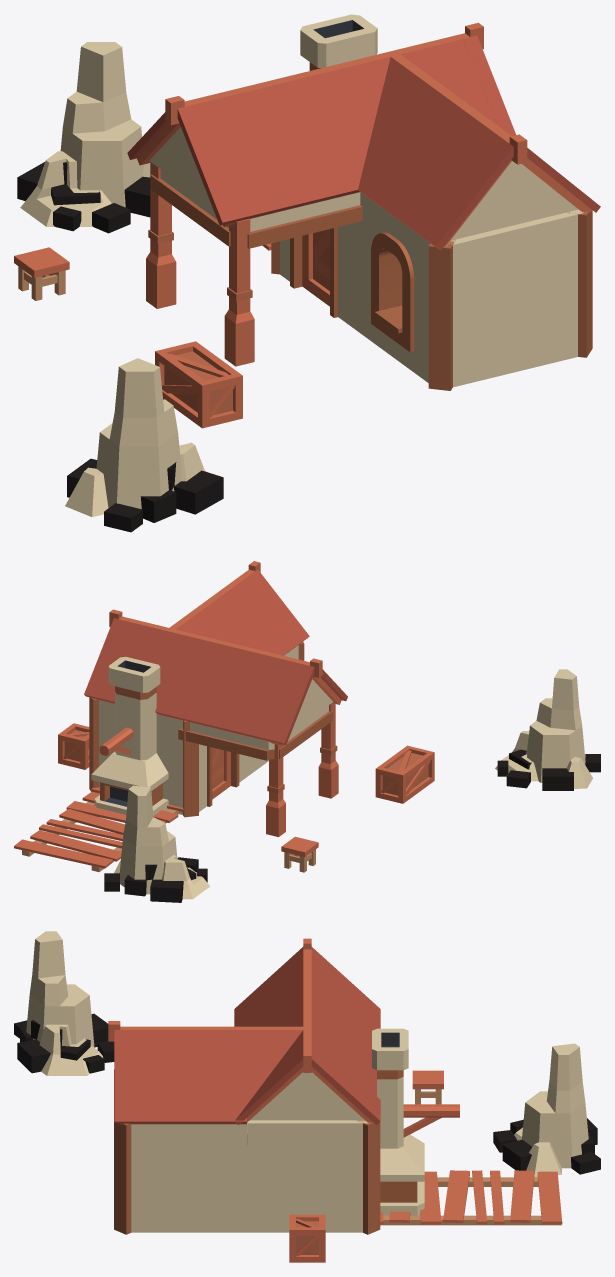
The model's file is atelier_de_charbonnier.glb.
3 renders of one model, top to bottom at view 1: azimuth 30°, elevation 25°; view 2: azimuth 150°, elevation 25°; view 3: azimuth 270°, elevation 25°, orthographic. The views are drawn at different scales.
Visible parts, largest first — view 1: mergedBlocks(Clone); view 2: mergedBlocks(Clone); view 3: mergedBlocks(Clone).
Part boxes in pixels (bbox=[...]): mergedBlocks(Clone): bbox=[14, 14, 600, 532]; mergedBlocks(Clone): bbox=[14, 561, 600, 902]; mergedBlocks(Clone): bbox=[14, 931, 600, 1262].
Bounding box in the file's own units: 4.64 × 1.66 × 4.86.
1 material, 1 textured.
